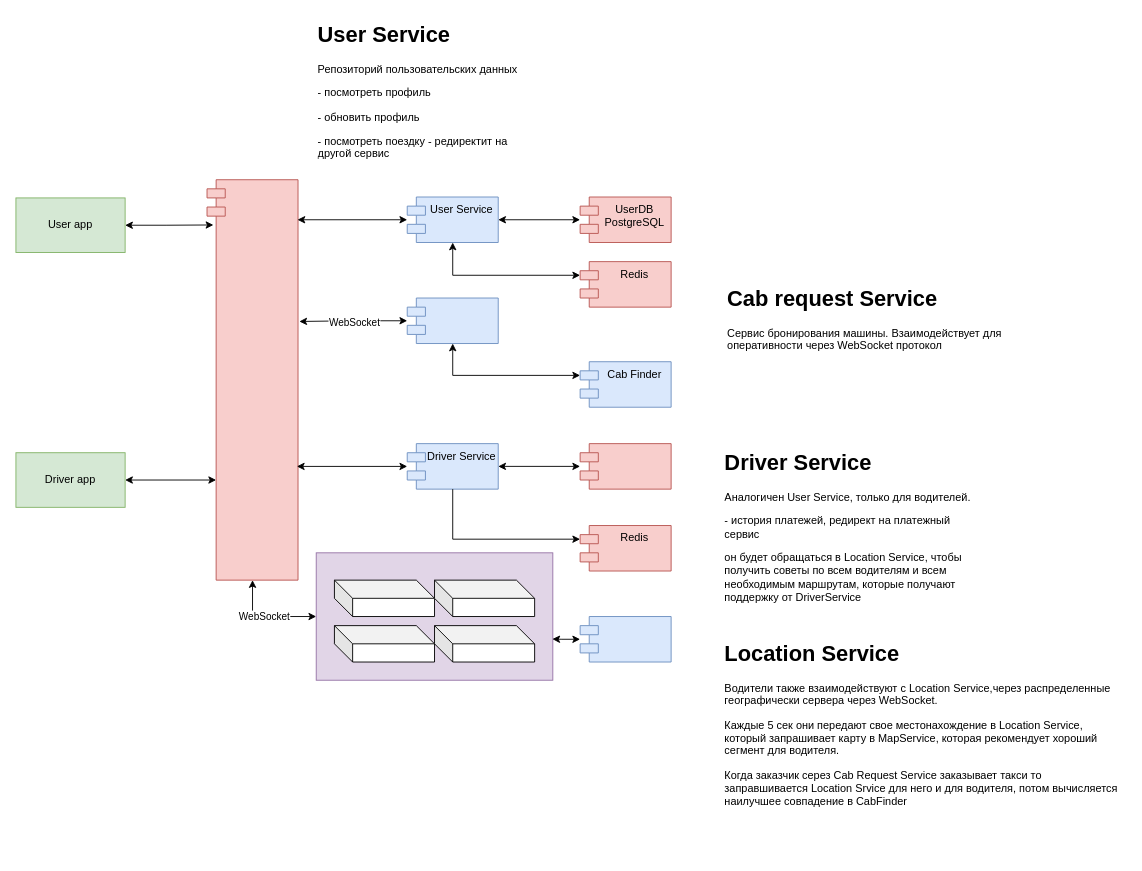
Some shapes in this 1142 by 871 pixel diagram are drawn without their labels. The centre of each missing label's shape, as x and y in pixels:
"Cab request Service" goes at point (452, 320).
"DriverDB PostgreSQL" goes at point (625, 466).
"LB" goes at point (252, 379).
"Location Service" goes at point (625, 639).
